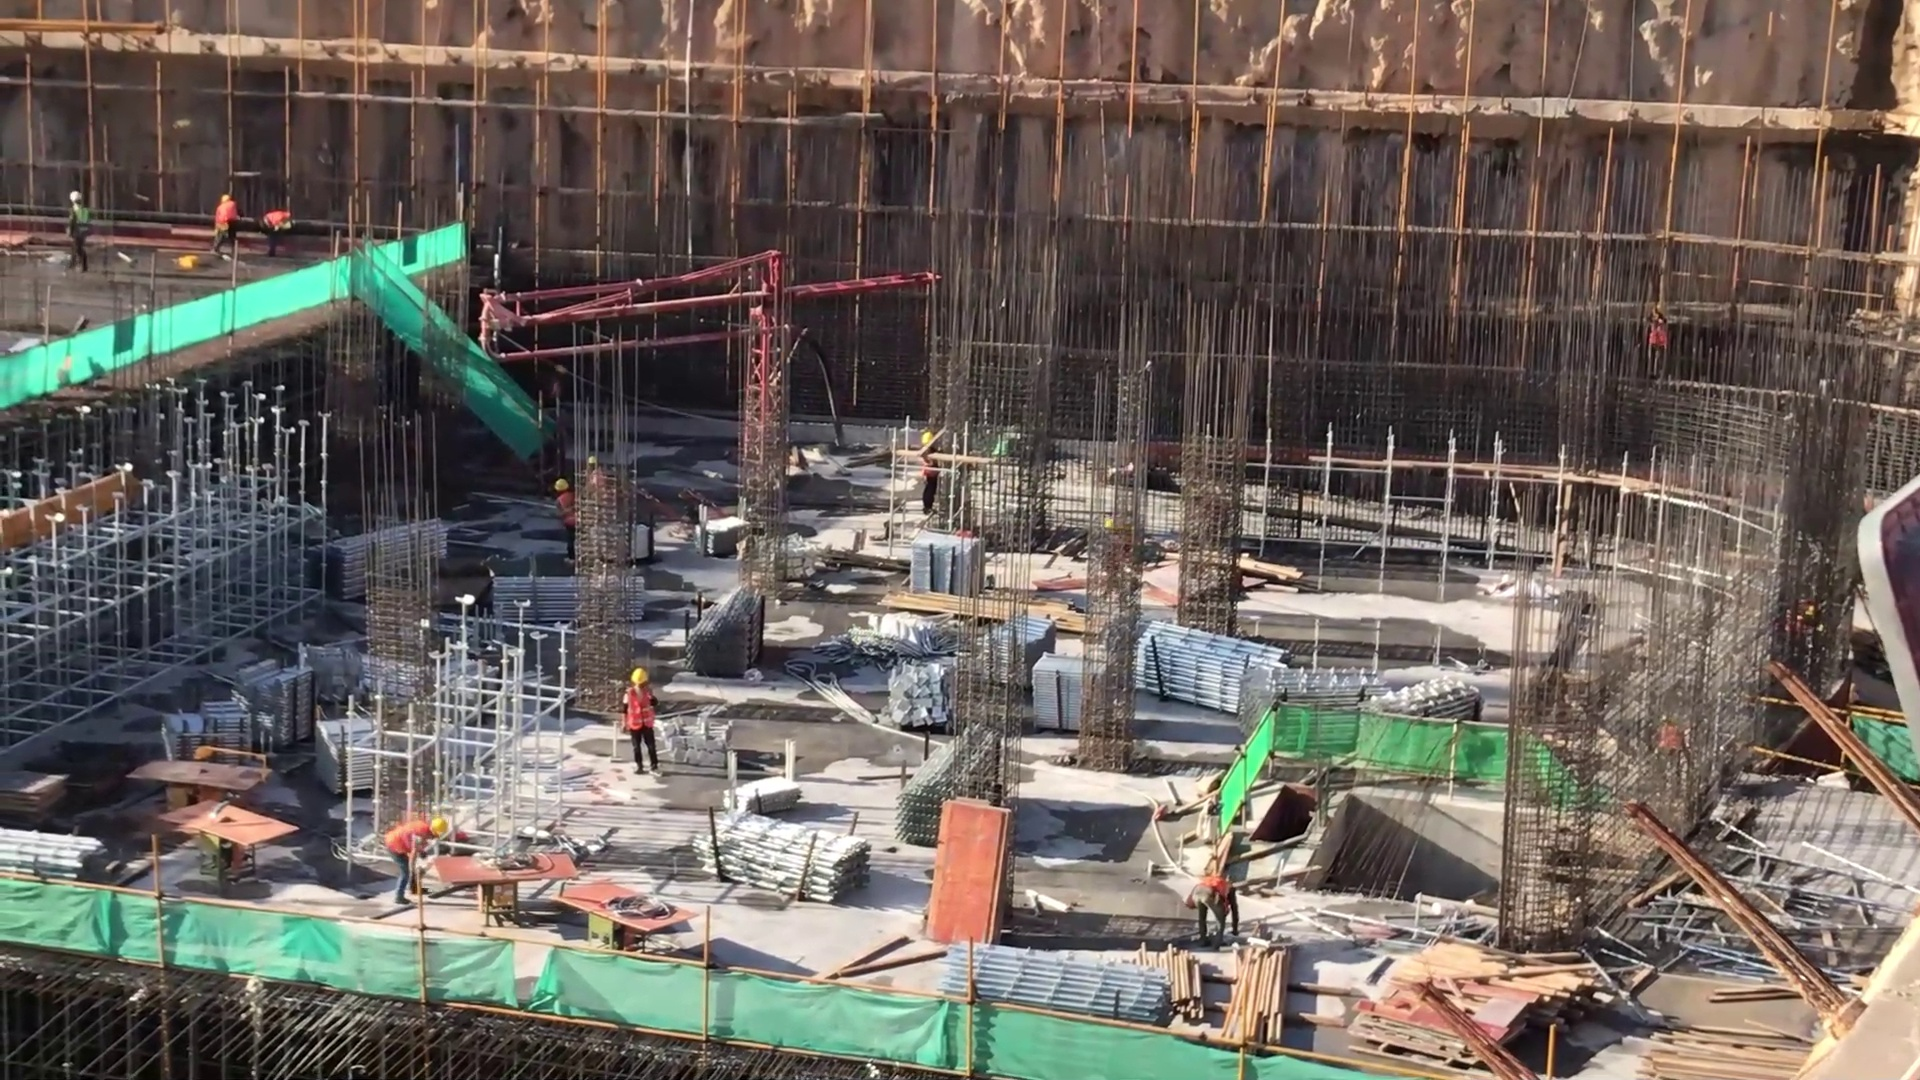board: (922, 792, 1015, 951), (1342, 980, 1543, 1047), (1, 761, 72, 839)
cutter: (149, 796, 297, 889), (556, 867, 691, 958), (419, 843, 583, 916), (131, 750, 271, 824)
helmet: (427, 813, 449, 842), (917, 433, 939, 457), (630, 667, 656, 687), (67, 188, 86, 206), (553, 475, 570, 493)
person: (607, 657, 670, 783), (384, 804, 447, 911), (1171, 869, 1247, 954), (536, 478, 591, 580), (60, 172, 96, 289), (915, 422, 952, 524), (200, 193, 241, 282), (260, 204, 301, 268)
scaffold: (938, 936, 1189, 1041), (673, 802, 875, 910), (1130, 617, 1285, 726), (1361, 678, 1498, 788), (307, 519, 472, 606), (1240, 660, 1373, 756), (1, 816, 118, 910), (158, 698, 285, 779), (480, 573, 673, 627), (681, 589, 784, 684), (242, 651, 321, 750), (318, 711, 389, 803), (980, 617, 1062, 688)
vest: (1190, 869, 1238, 921), (620, 687, 662, 743), (388, 819, 427, 863), (554, 489, 584, 536), (69, 205, 93, 246), (213, 198, 238, 235), (265, 205, 288, 231)
wood: (1633, 1025, 1816, 1080)
